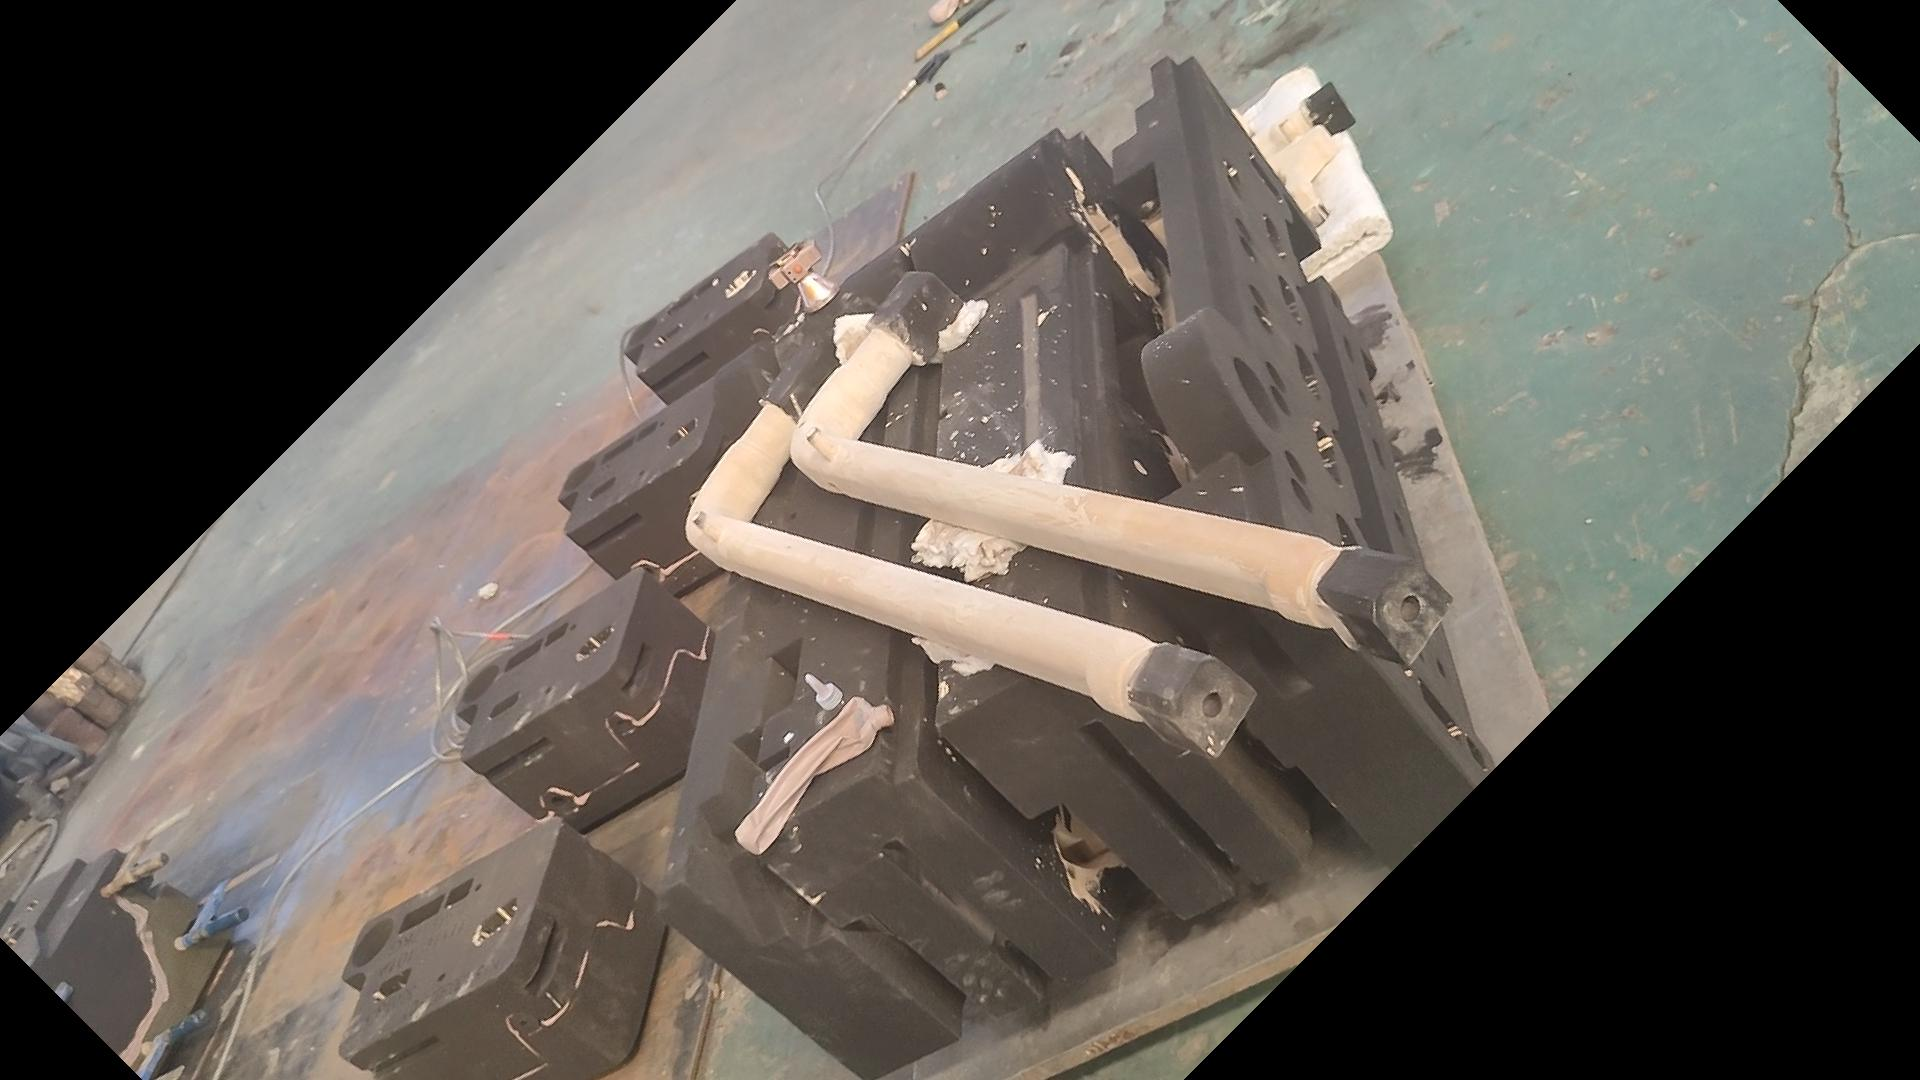pouring hole: (1232, 353, 1282, 433), (349, 916, 394, 967), (460, 665, 498, 702), (559, 458, 596, 495), (622, 316, 658, 349)
